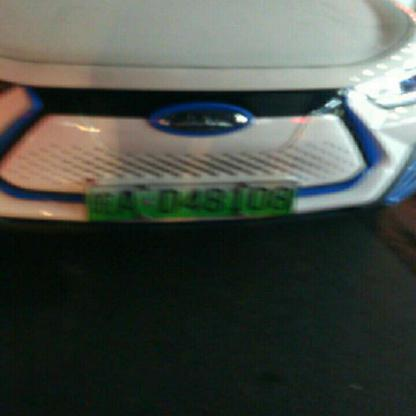lp: (87, 184, 296, 219)
